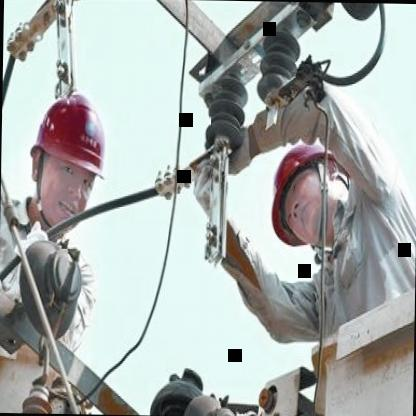helmet: (20, 80, 118, 233), (267, 132, 339, 252)
